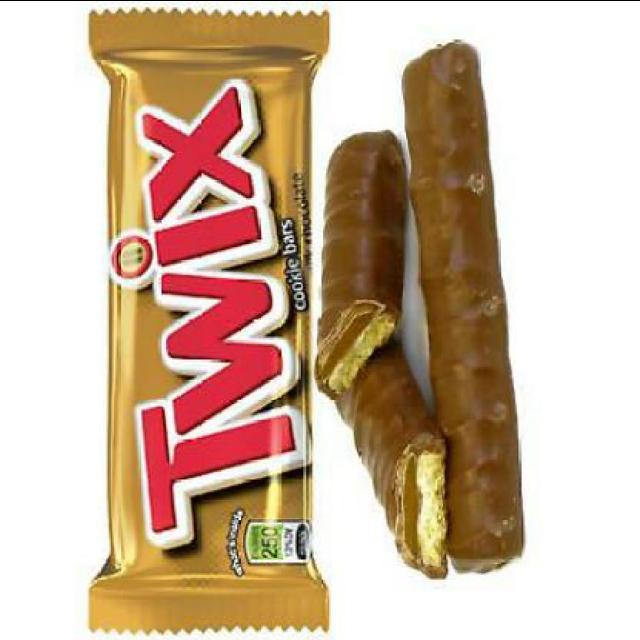Chocolate bar: (85, 5, 337, 632)
Chocolate bar packaged: (400, 38, 524, 570), (326, 318, 451, 584), (310, 126, 407, 392)
